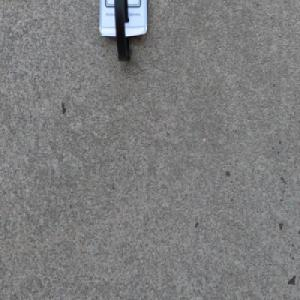LuggageTag: (96, 0, 149, 64)
